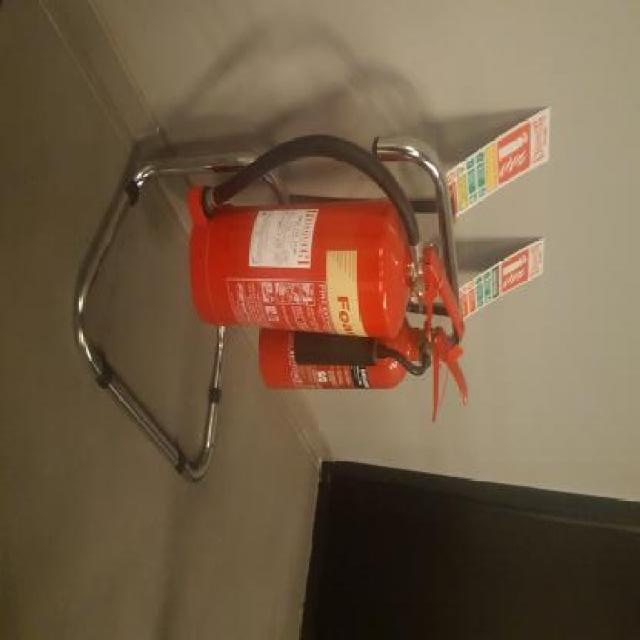fire extinguisher: (184, 137, 465, 341), (258, 319, 470, 423)
